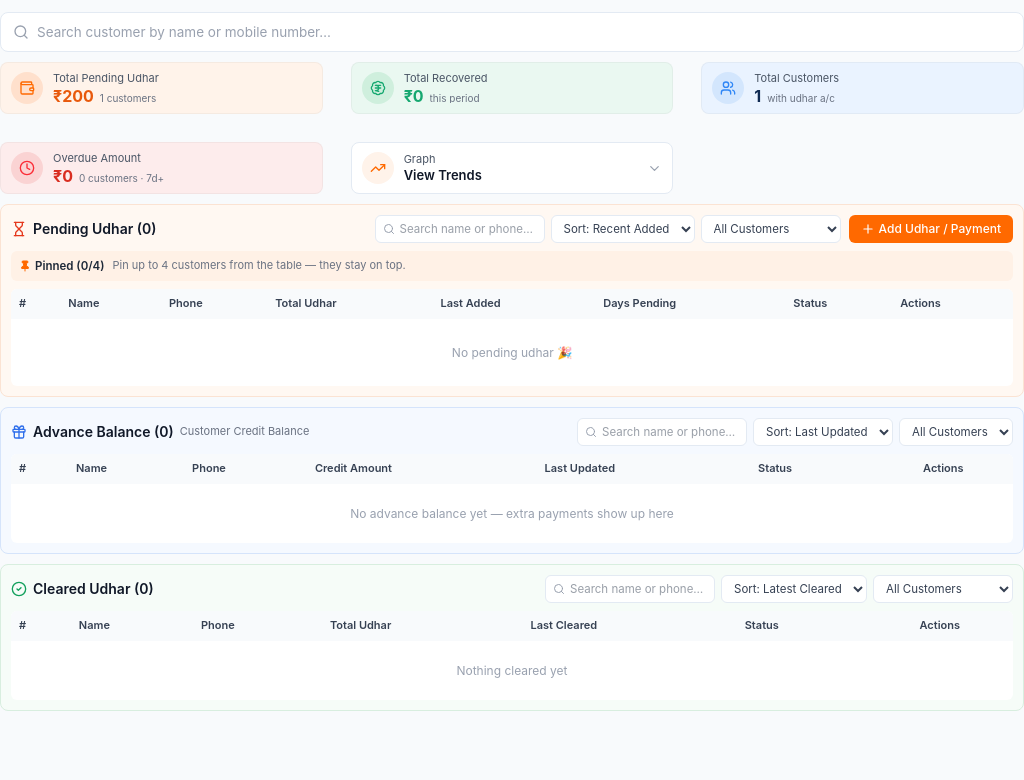
it: Udhar universal customer search › an outdated slow answer can never replace the newest results
This screenshot has width=1024, height=780.
Type "ra" into the dropdown labelled "Search customer". click: (524, 32)
box: [37, 13, 1011, 51]
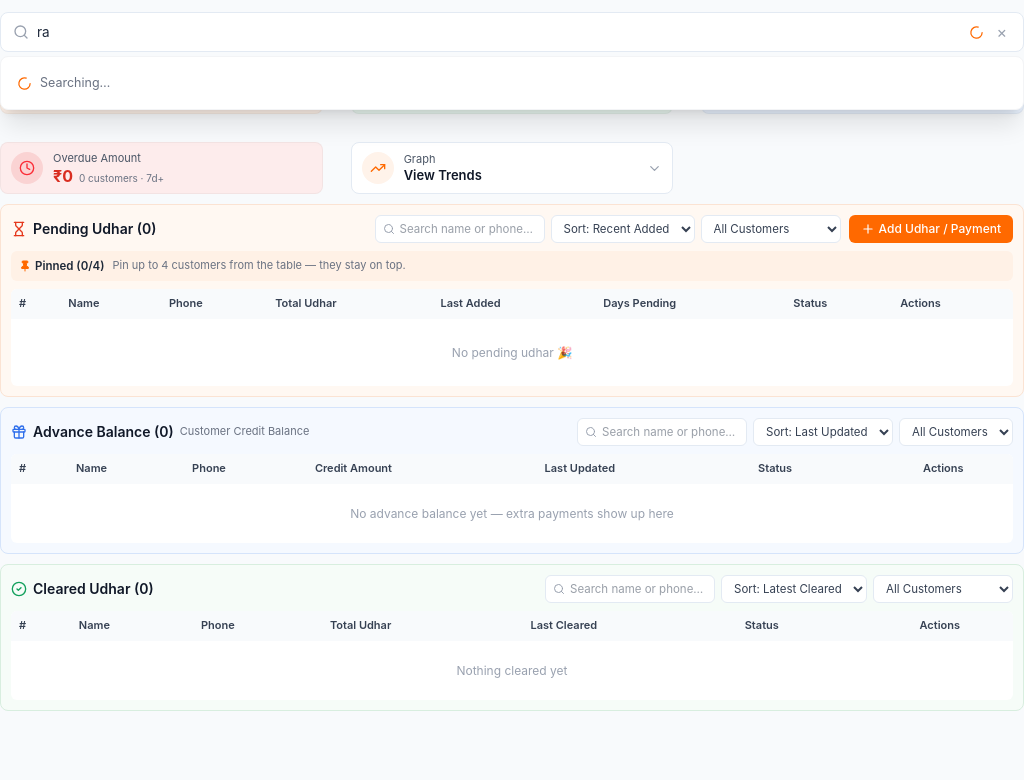
Replace the text in the dropdown named "Search customer" with "rav". click: (499, 32)
box: [37, 13, 961, 51]
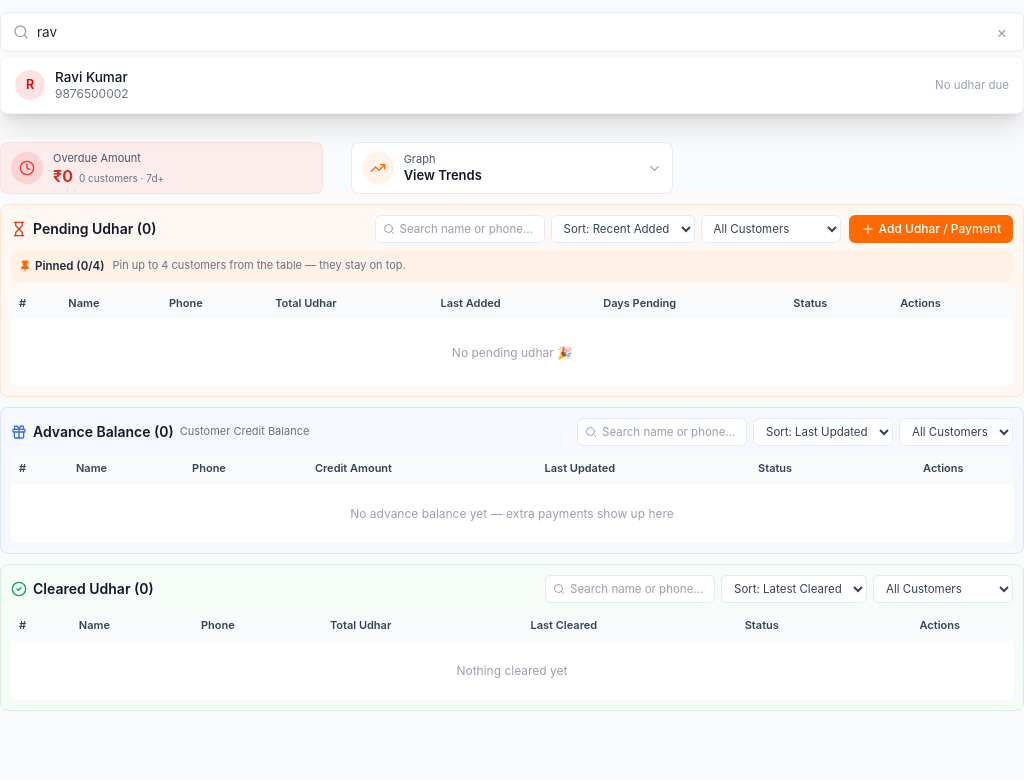
Now the number of options is 1, box [5, 61, 1019, 109]
